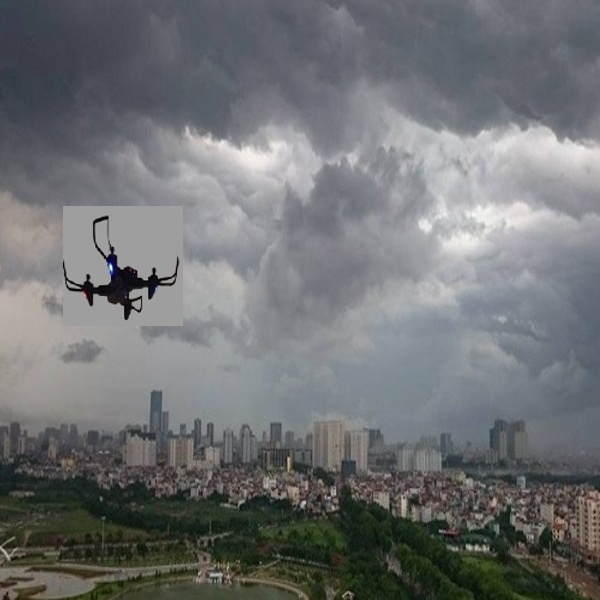drone: (59, 208, 186, 319)
